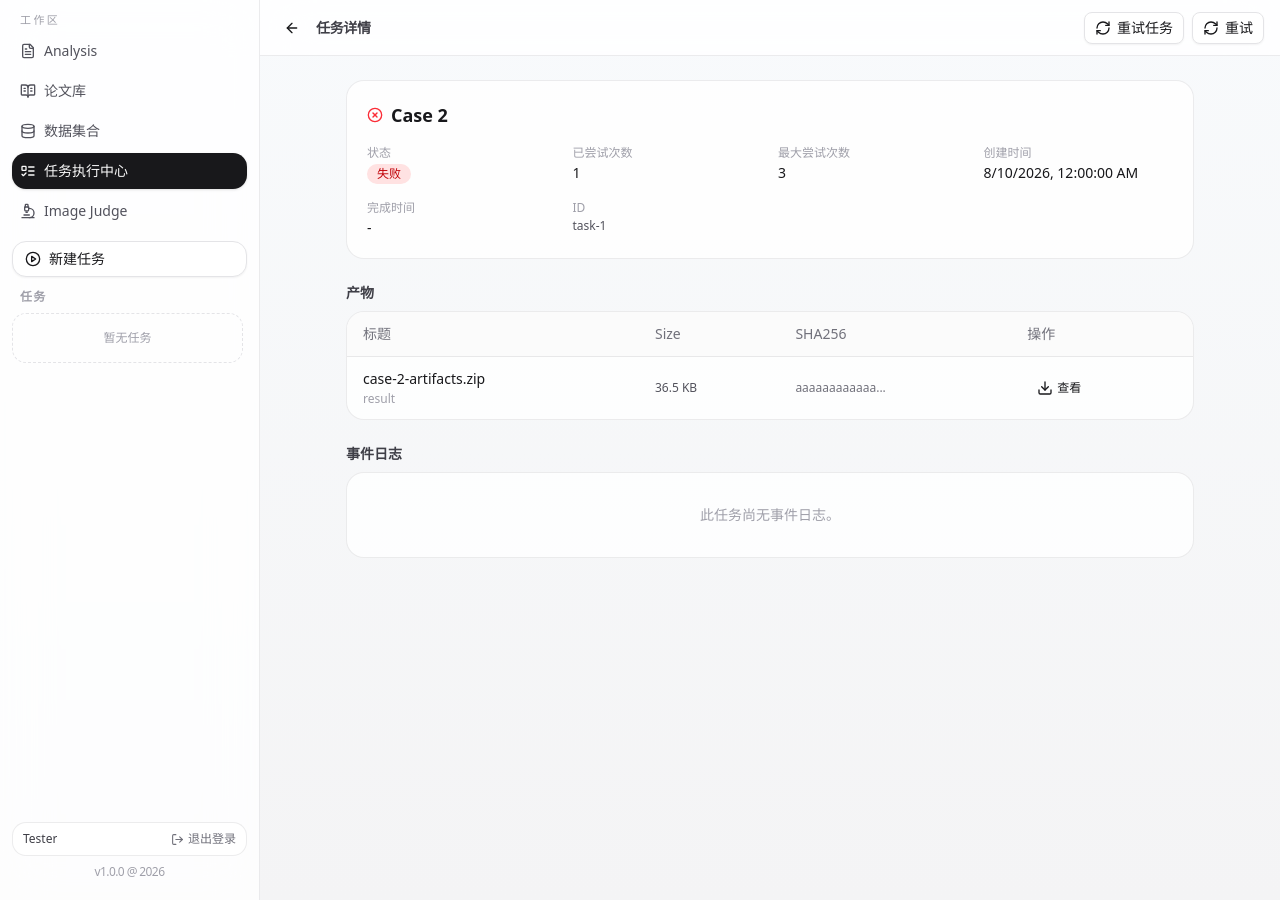
Scenario: Task detail downloads › shows the retry response status before a follow-up detail request completes
Step 1. Click the button "重试任务" → (1134, 28), box [1084, 12, 1184, 44]
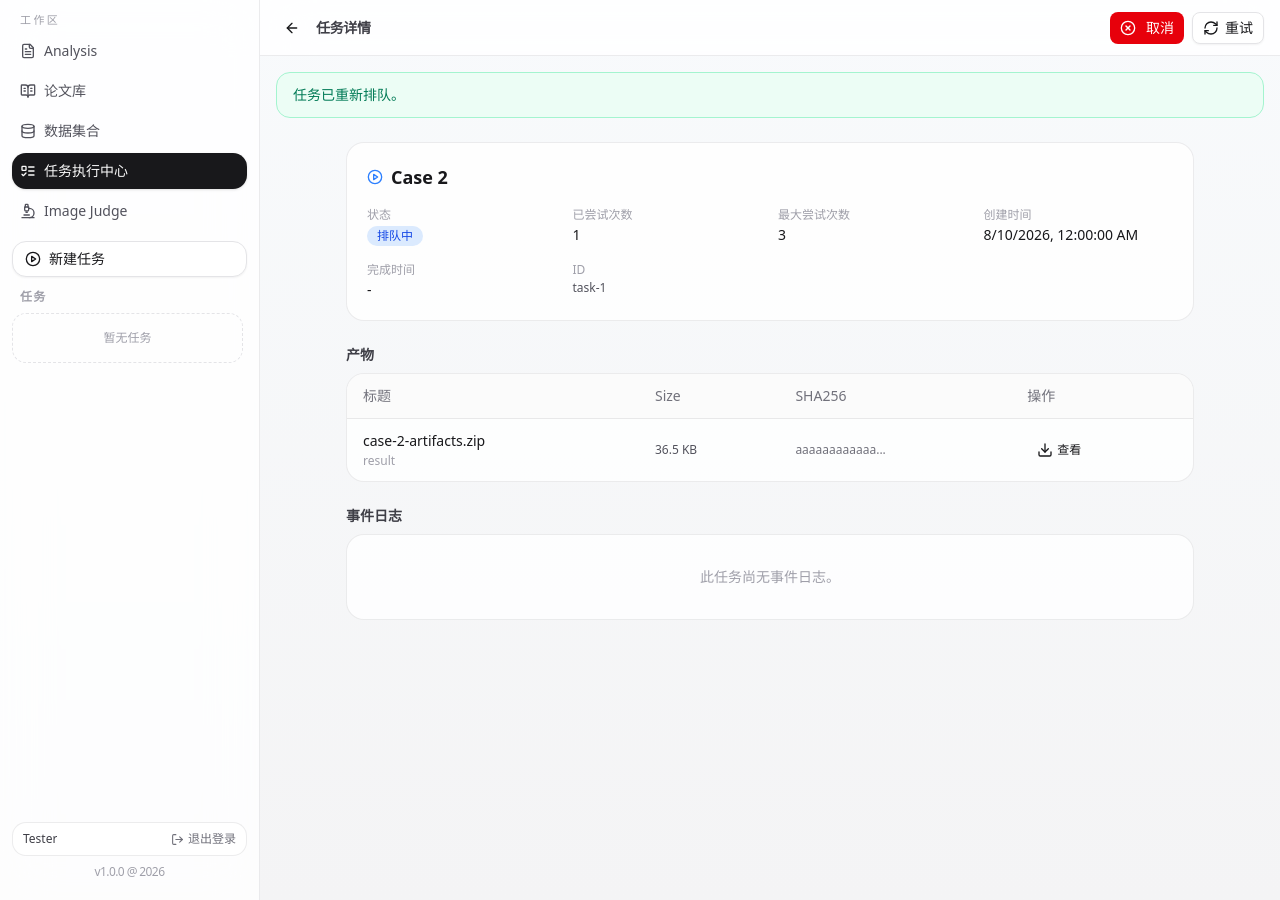
Check: the text "排队中" is shown, box [367, 226, 423, 246]
Check: the button "重试任务" is gone
